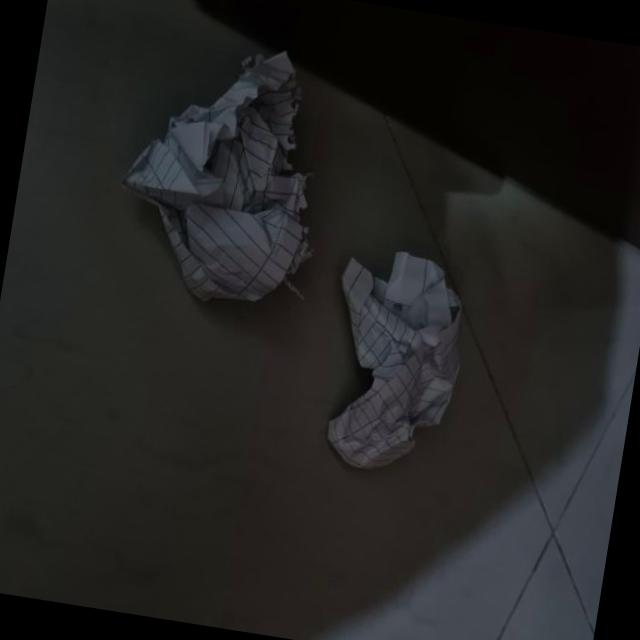cardboard paper: (126, 51, 308, 299), (329, 251, 461, 466)
